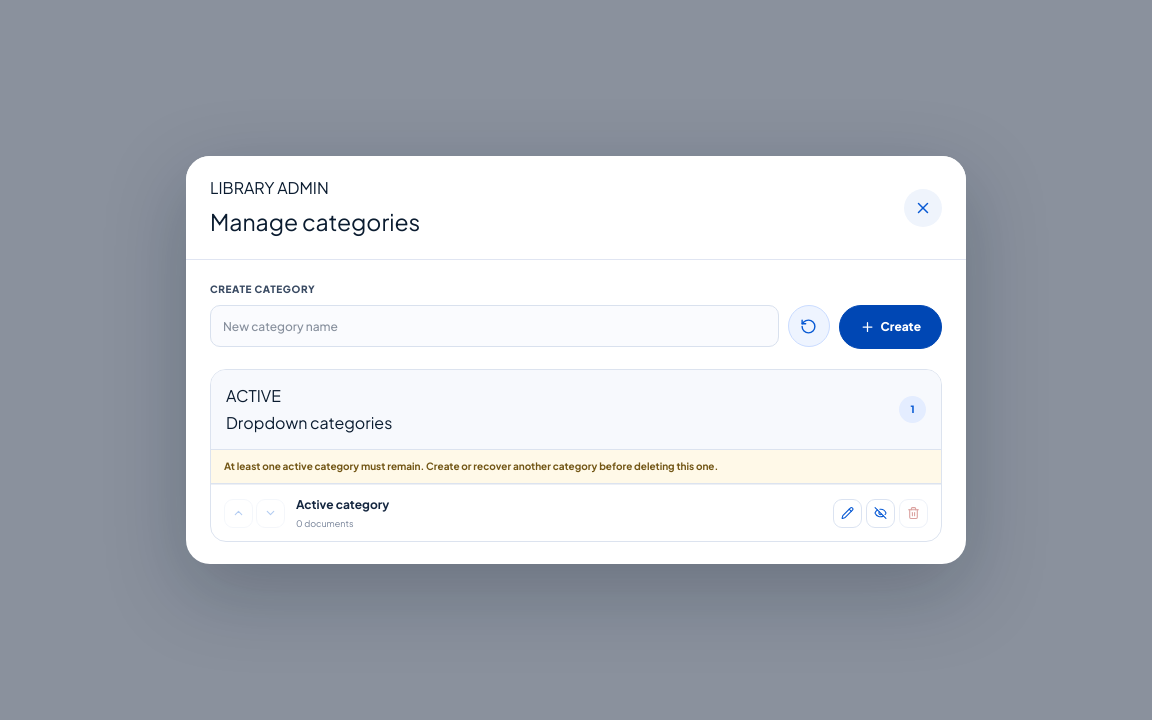
Test case: accessible controls › prevents permanently deleting a category that still contains documents
Click the button named "Open category recovery (1)" at (808, 326), box [788,305,830,347]
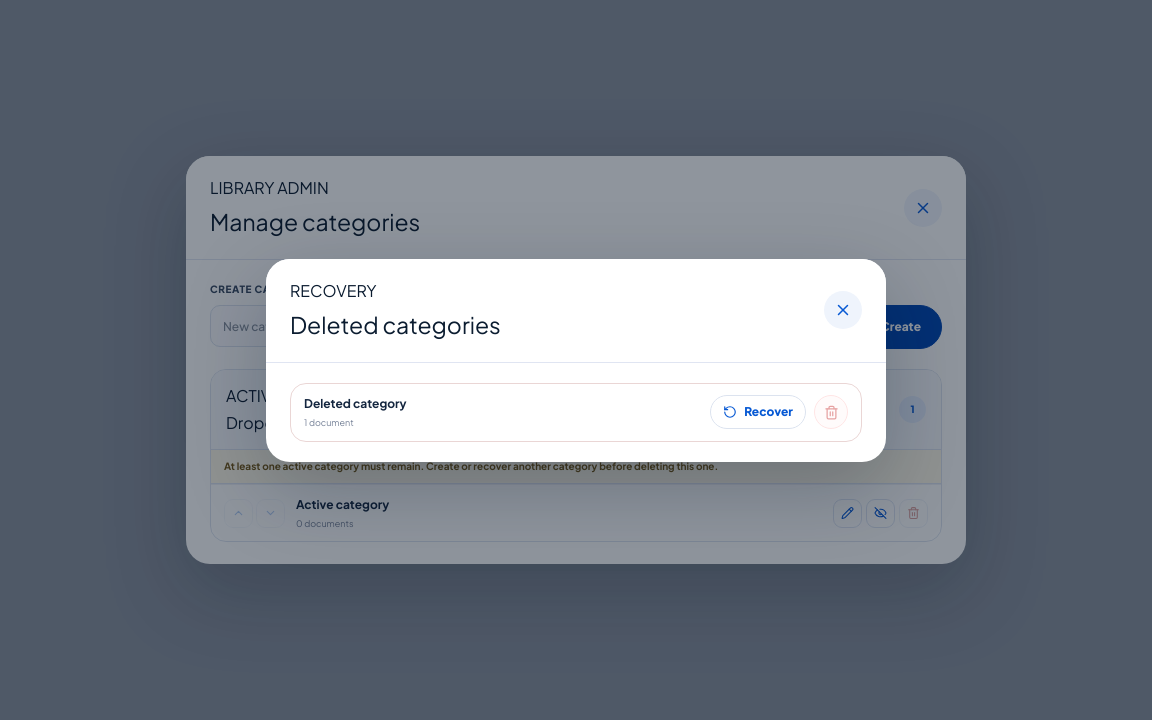
Expected: the button named "Permanently delete Deleted category" is disabled, [814,395,848,429]
